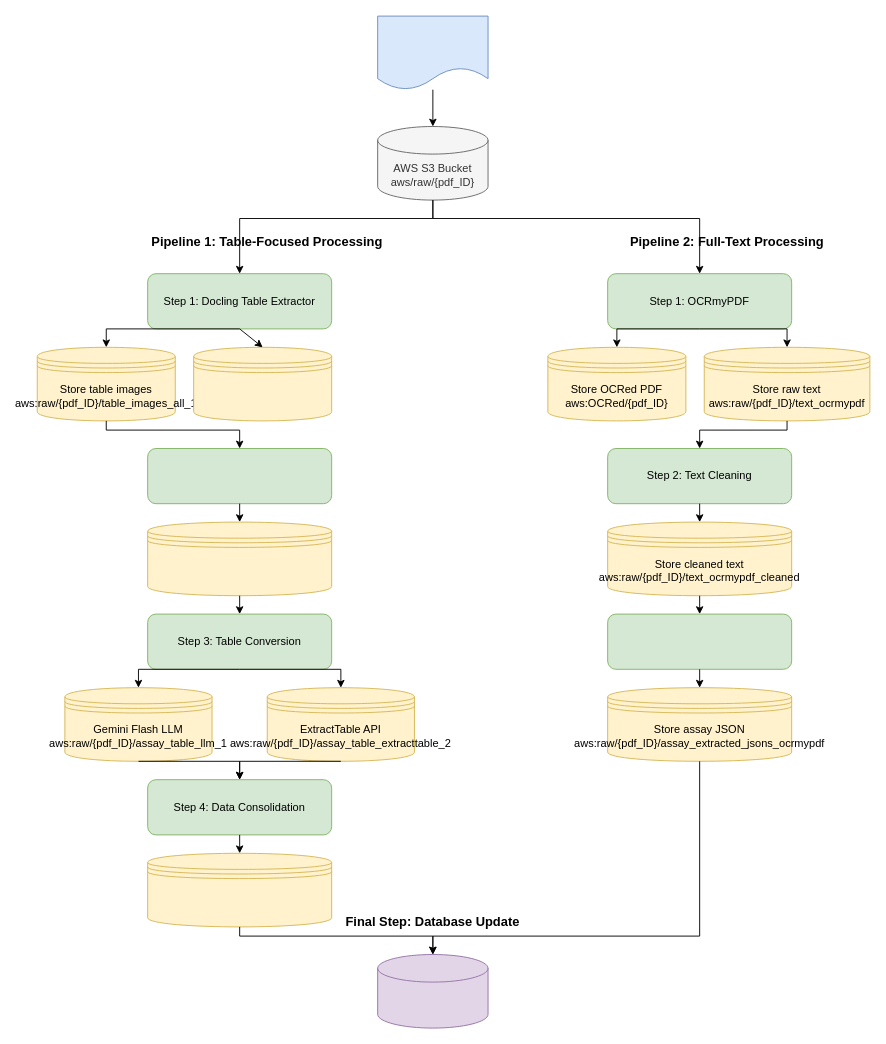
The diagram is 886 pixels wide and 1044 high, and some of its shapes have lost their labels. The box of each missing label's shape, as (x1, y1, x2, y2) in pixels:
MongoDB: (377, 954, 488, 1028)
PDF Input Document: (377, 15, 488, 90)
Step 2: Assay Classification: (147, 448, 332, 504)
Step 3: Text-Based Extraction: (607, 613, 792, 669)
Store assay JSON aws:raw/{pdf_ID}/assay_extracted_jsons_docling: (147, 852, 332, 927)
Store OCR text aws:raw/{pdf_ID}/text_docling: (193, 346, 332, 421)
Store valuable tables aws:raw/{pdf_ID}/table_images_assay_2: (147, 521, 332, 596)
